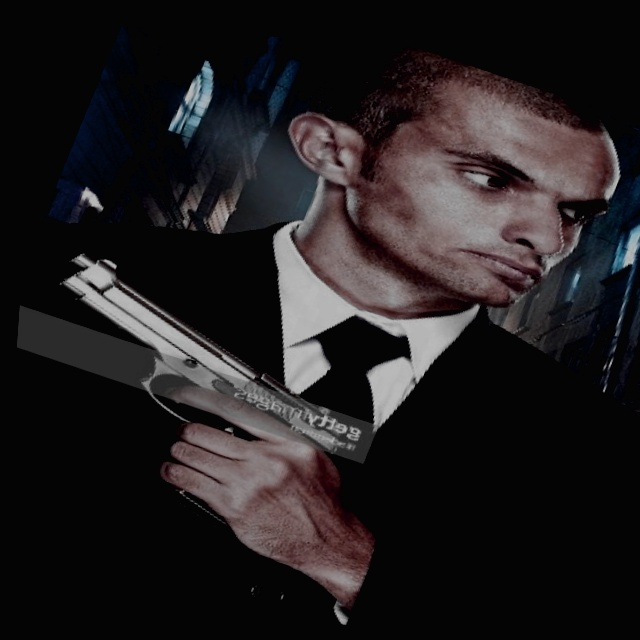gun: (4, 242, 402, 564)
